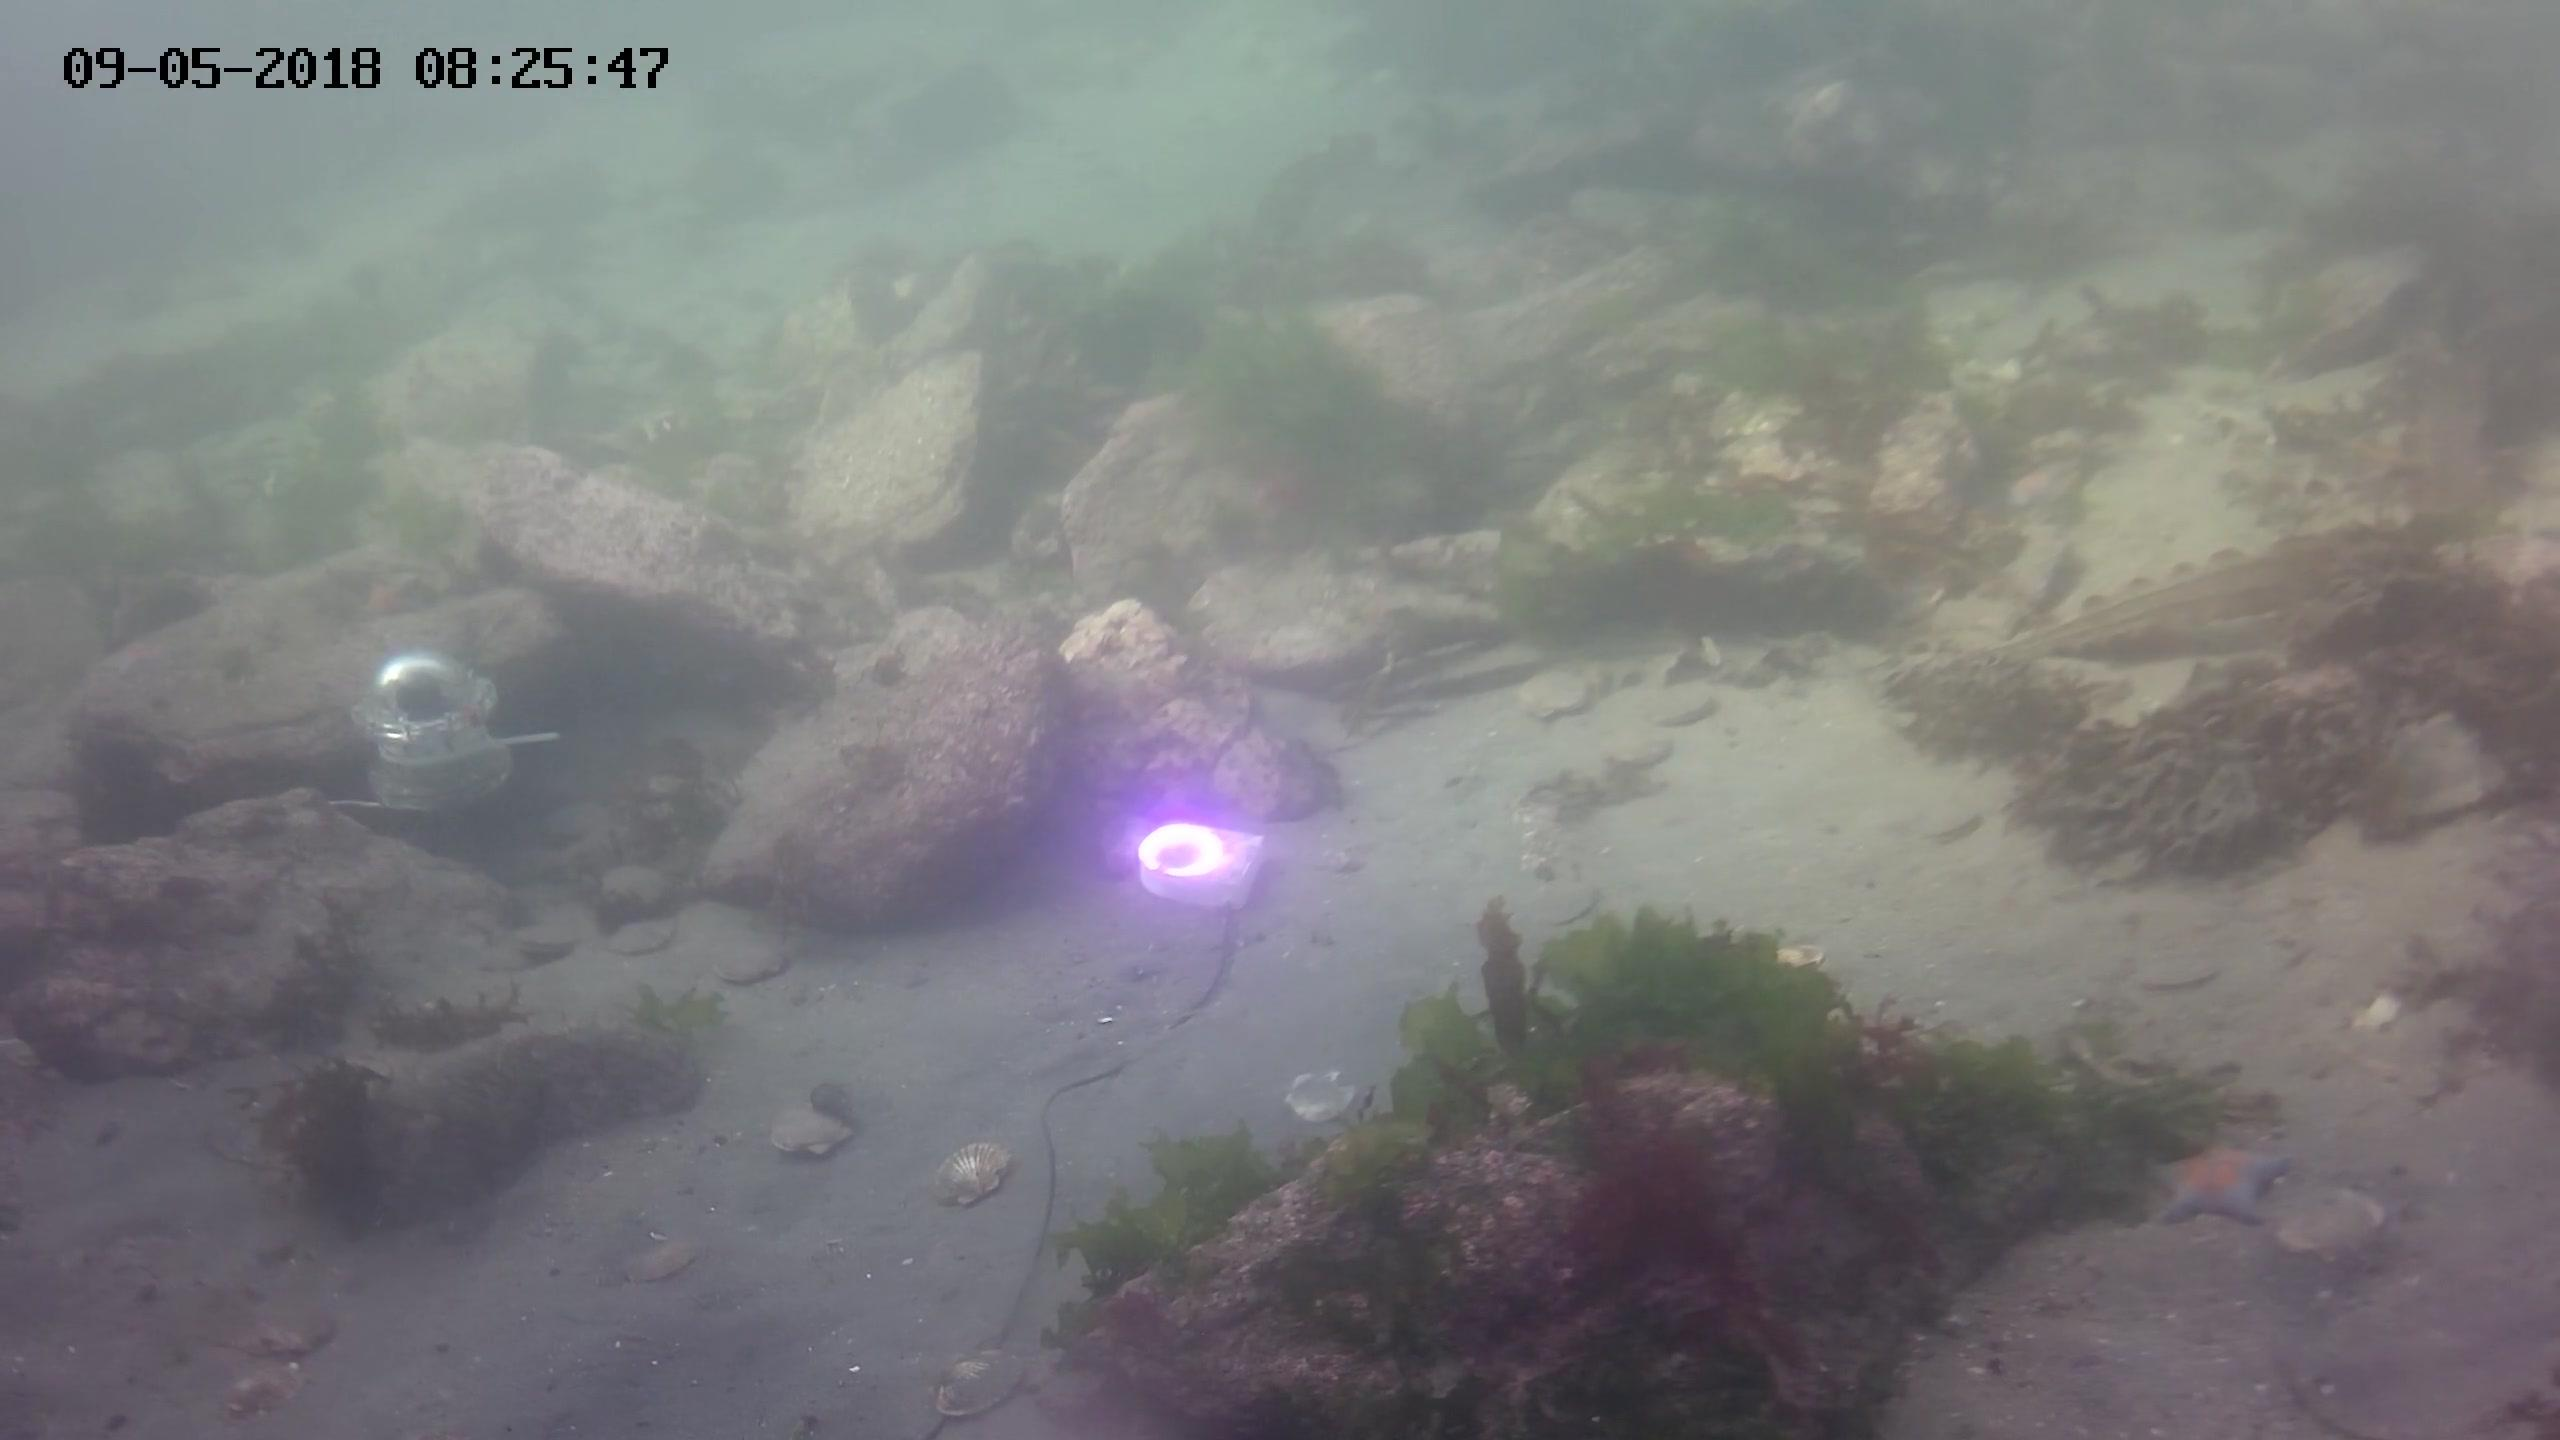scallop: (921, 1343, 1032, 1417), (211, 1303, 346, 1361), (2282, 1189, 2389, 1259), (932, 1136, 1018, 1211), (761, 1104, 862, 1162), (617, 1234, 709, 1291), (1284, 1062, 1361, 1125), (2133, 946, 2221, 999), (230, 1347, 297, 1408), (1516, 668, 1588, 723), (1653, 672, 1718, 731), (710, 942, 784, 992), (1605, 724, 1670, 772), (608, 920, 680, 962), (508, 920, 577, 960)
starfish: (2150, 1131, 2282, 1234)
